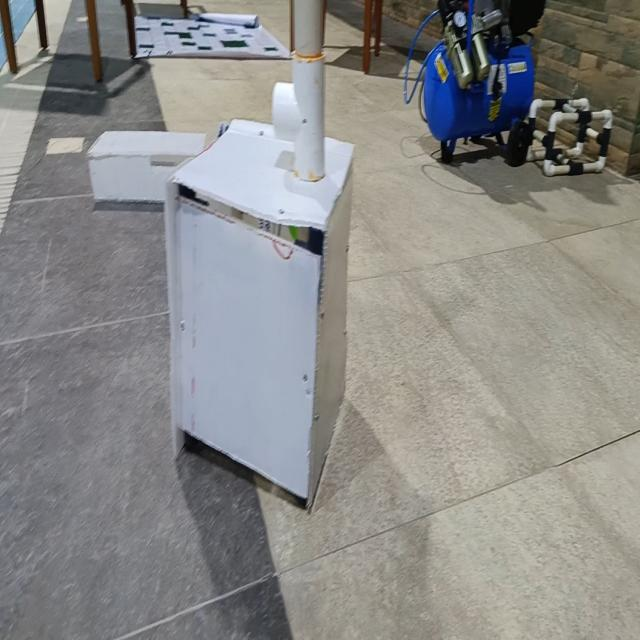Cube: (163, 120, 355, 509)
Cuboid: (86, 127, 207, 205)
